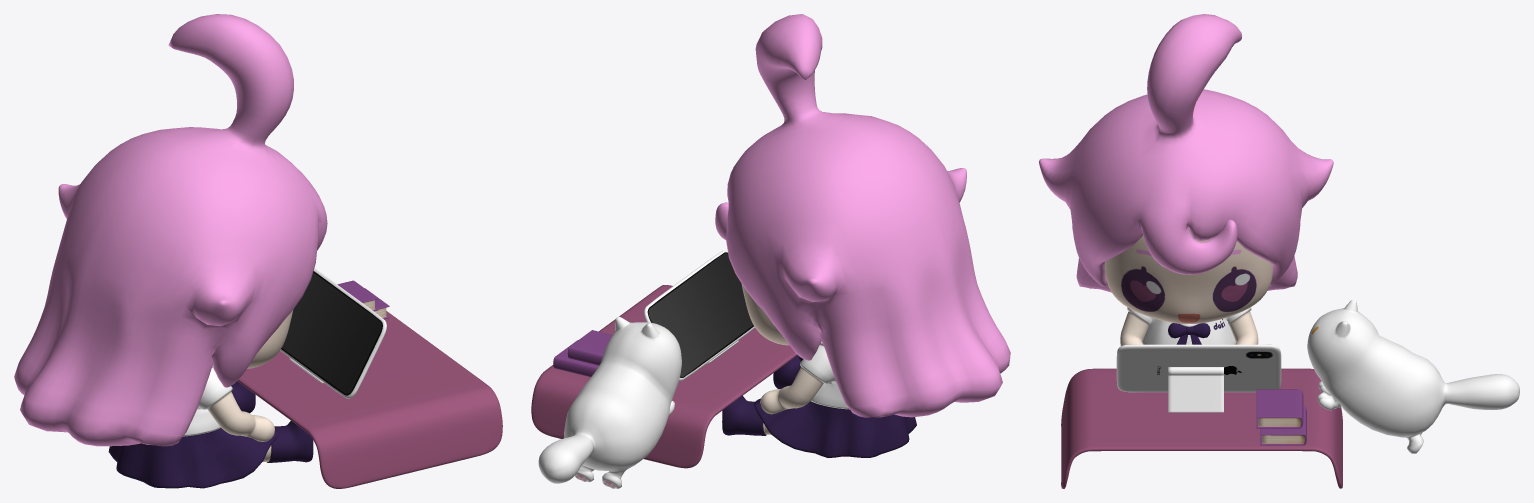
Rendered from HUYANMOSHI_JING.glb.
3 views of the same model, side by side, from view 1: azimuth 30°, elevation 25°; view 2: azimuth 150°, elevation 25°; view 3: azimuth 270°, elevation 25° (orthographic). The views are drawn at different scales.
Parts seen in each view (by area): view 1: 444444, Line002, Box004, Box020, Box012; view 2: 444444, 789, Line002, Box004, Box020, Box012, Box021; view 3: 444444, Line002, 789, Box020, Box004, Line003, Box012, Box021.
Part boxes in pixels (box(x1,y1,x2,y2)): 444444: box(14, 14, 327, 446); Line002: box(237, 311, 502, 488); Box004: box(108, 366, 313, 488); Box020: box(280, 268, 386, 398); Box012: box(337, 280, 378, 311); 444444: box(715, 14, 1010, 417); 789: box(538, 316, 681, 488); Line002: box(531, 285, 797, 468); Box004: box(722, 341, 916, 457); Box020: box(644, 250, 754, 380); Box012: box(567, 330, 612, 365); Box021: box(553, 340, 598, 376); 444444: box(1039, 14, 1333, 323); Line002: box(1061, 368, 1342, 488); 789: box(1307, 300, 1519, 453); Box020: box(1116, 344, 1281, 392); Box004: box(1120, 307, 1258, 345); Line003: box(1168, 367, 1223, 412); Box012: box(1256, 389, 1303, 428); Box021: box(1260, 406, 1306, 445).
Size of the model in its own units: 0.2681 by 0.2665 by 0.2985.
7 materials, 6 textured.
